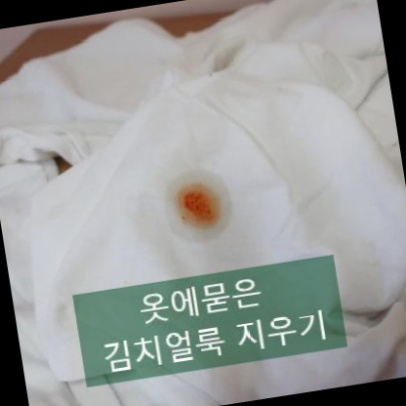kimchi: (164, 172, 224, 237)
